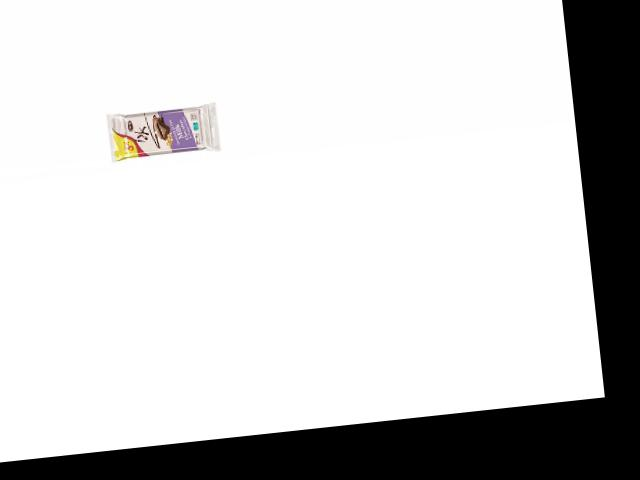chocolate: (102, 98, 222, 165)
